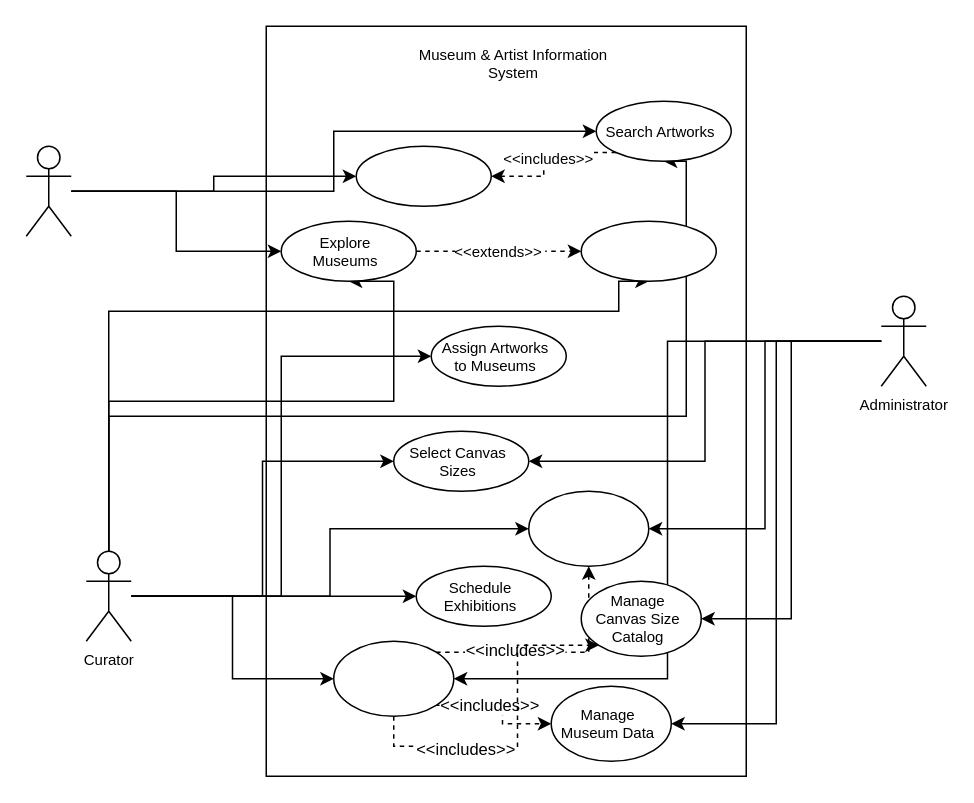
Some shapes in this 974 by 803 pixel diagram are drawn without their labels. The centre of each missing label's shape, as x and y in pixels:
"Check Museum Hours" goes at point 648,250.
"Import/Export Data" goes at point 393,678.
"Manage Artist Records" goes at point 588,528.
"View Artist Profiles" goes at point 423,175.
"Vistor" goes at point 48,190.
